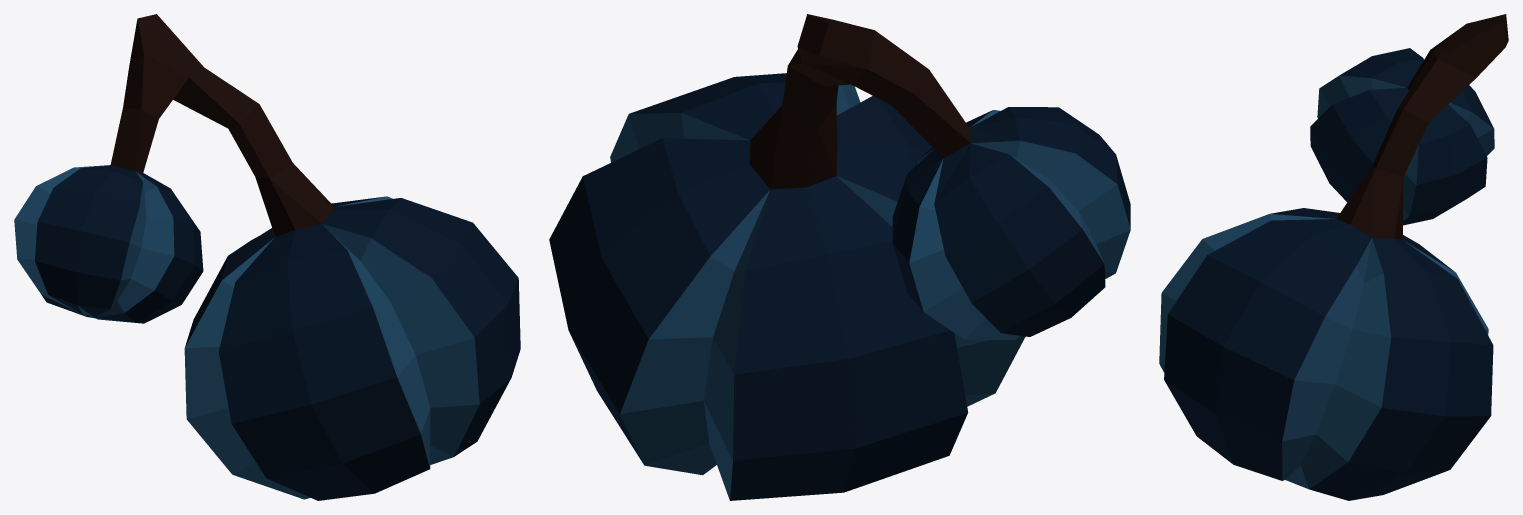
File: GlueBerry_Model_01.FBX
3 views of the same model, side by side, from view 1: azimuth 30°, elevation 25°; view 2: azimuth 150°, elevation 25°; view 3: azimuth 270°, elevation 25° (orthographic). The views are drawn at different scales.
Visible parts, largest first — view 1: Sphere001; view 2: Sphere001; view 3: Sphere001.
Part boxes in pixels (x1,y1,x2,y2): Sphere001: (14,14,520,500); Sphere001: (549,14,1130,500); Sphere001: (1159,14,1508,500).
Bounding box in the file's own units: 27.06 × 25.55 × 19.43.
